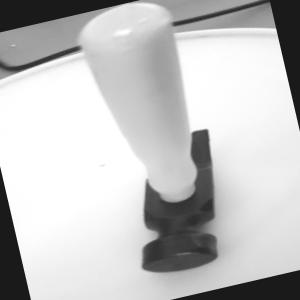martelo: (70, 0, 239, 283)
